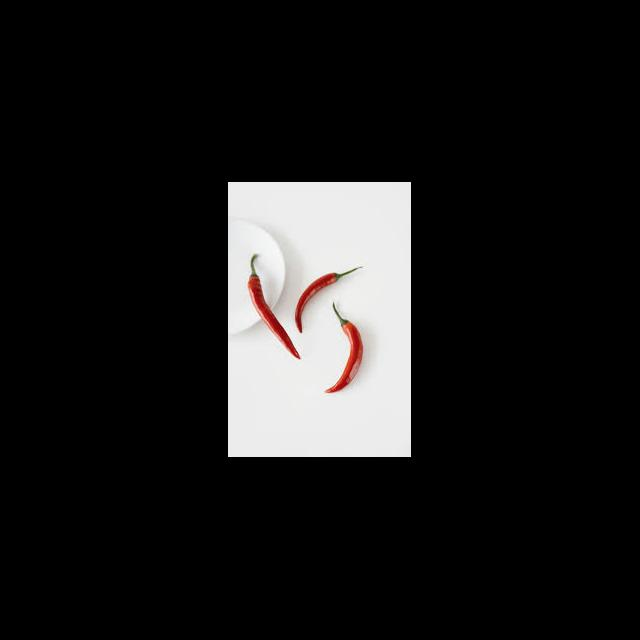chili_pepper: (248, 256, 302, 362), (296, 266, 364, 334), (324, 304, 364, 394)
